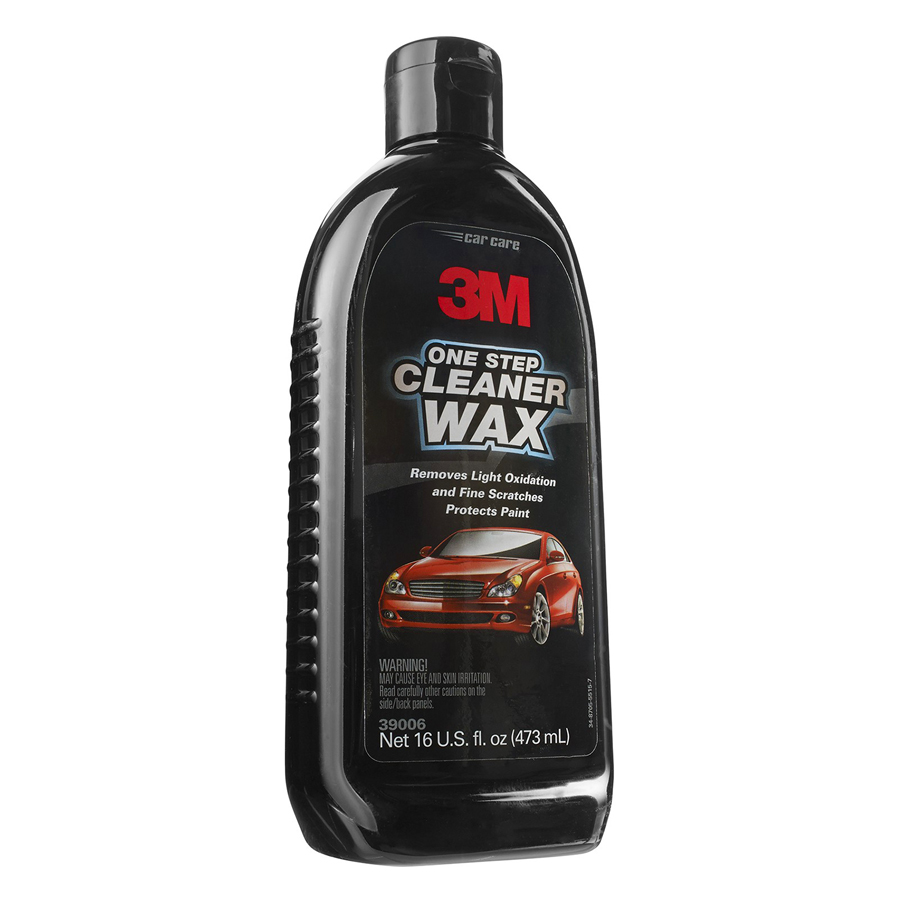3M: (429, 254, 544, 336)
